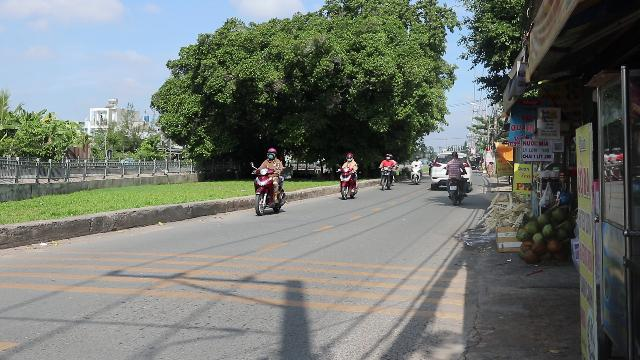motorcyclist: (250, 148, 288, 216)
